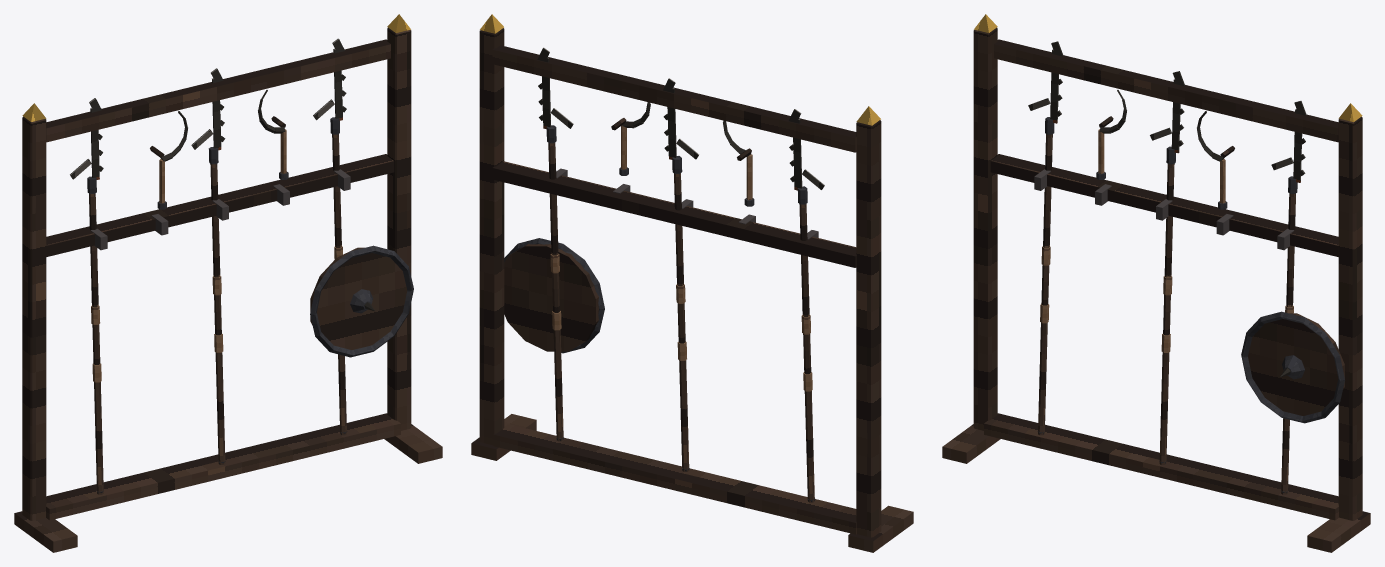
File: guard_weapon_rack.glb
3 views of the same model, side by side, from view 1: azimuth 30°, elevation 25°; view 2: azimuth 150°, elevation 25°; view 3: azimuth 330°, elevation 25° (orthographic). The views are drawn at different scales.
Visible parts, largest first — view 1: body; view 2: body; view 3: body.
Part boxes in pixels (left/top/right/bottom): body: left=14, top=14, right=442, bottom=552; body: left=471, top=14, right=913, bottom=552; body: left=942, top=14, right=1370, bottom=552.
Bounding box in the file's own units: 2.88 × 3 × 0.5.
Materials: 6 (5 with a texture image).
